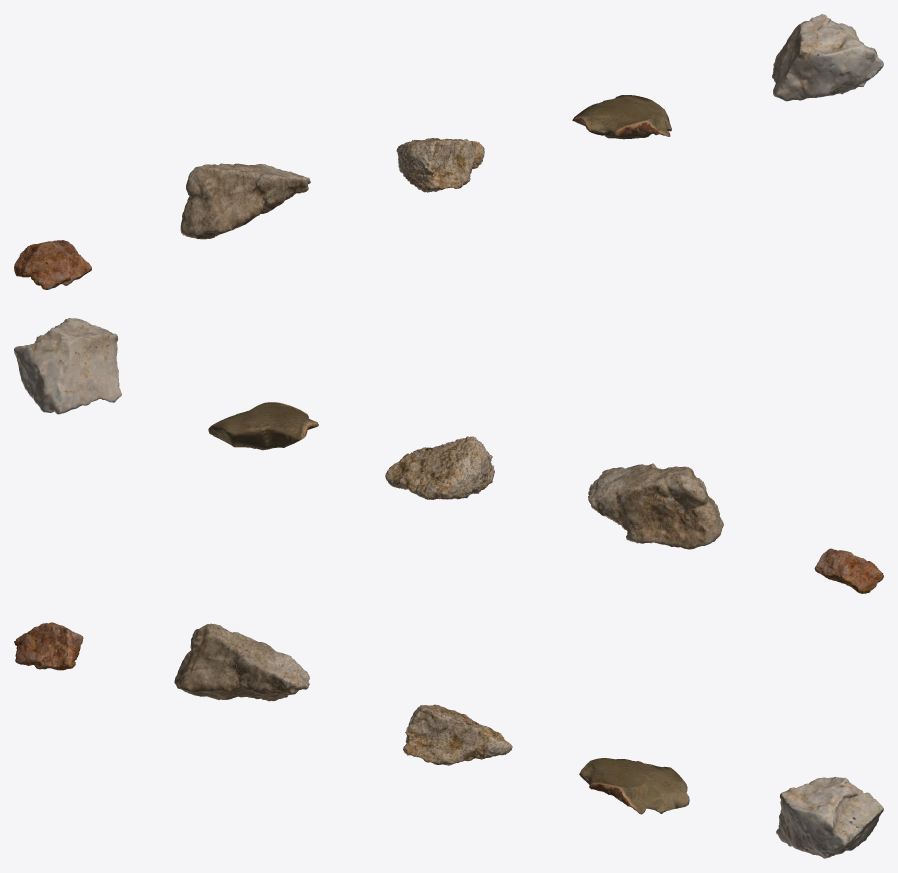
File: namaqualand_stones_01.glb
The picture shows the model from 3 angles, top to bottom: view 1: azimuth 30°, elevation 25°; view 2: azimuth 150°, elevation 25°; view 3: azimuth 330°, elevation 25°; orthographic projection.
Parts seen in each view (by area): view 1: namaqualand_stones_01_e, namaqualand_stones_01_b, namaqualand_stones_01_c, namaqualand_stones_01_d, namaqualand_stones_01_a; view 2: namaqualand_stones_01_b, namaqualand_stones_01_e, namaqualand_stones_01_c, namaqualand_stones_01_d, namaqualand_stones_01_a; view 3: namaqualand_stones_01_b, namaqualand_stones_01_e, namaqualand_stones_01_c, namaqualand_stones_01_d, namaqualand_stones_01_a.
Boxes of the visible parts, box(x1,y1,x2,y2) form: namaqualand_stones_01_e: box(772, 14, 883, 101); namaqualand_stones_01_b: box(180, 163, 310, 239); namaqualand_stones_01_c: box(396, 138, 484, 192); namaqualand_stones_01_d: box(572, 95, 671, 139); namaqualand_stones_01_a: box(14, 240, 91, 289); namaqualand_stones_01_b: box(588, 463, 723, 549); namaqualand_stones_01_e: box(14, 318, 121, 414); namaqualand_stones_01_c: box(385, 436, 494, 499); namaqualand_stones_01_d: box(208, 402, 318, 450); namaqualand_stones_01_a: box(814, 548, 883, 593); namaqualand_stones_01_b: box(174, 623, 309, 701); namaqualand_stones_01_e: box(776, 776, 883, 858); namaqualand_stones_01_c: box(403, 704, 512, 765); namaqualand_stones_01_d: box(579, 758, 689, 814); namaqualand_stones_01_a: box(14, 622, 83, 670).
Bounding box in the file's own units: 1.02 × 0.084 × 0.1121.
Materials: 1 (1 with a texture image).
